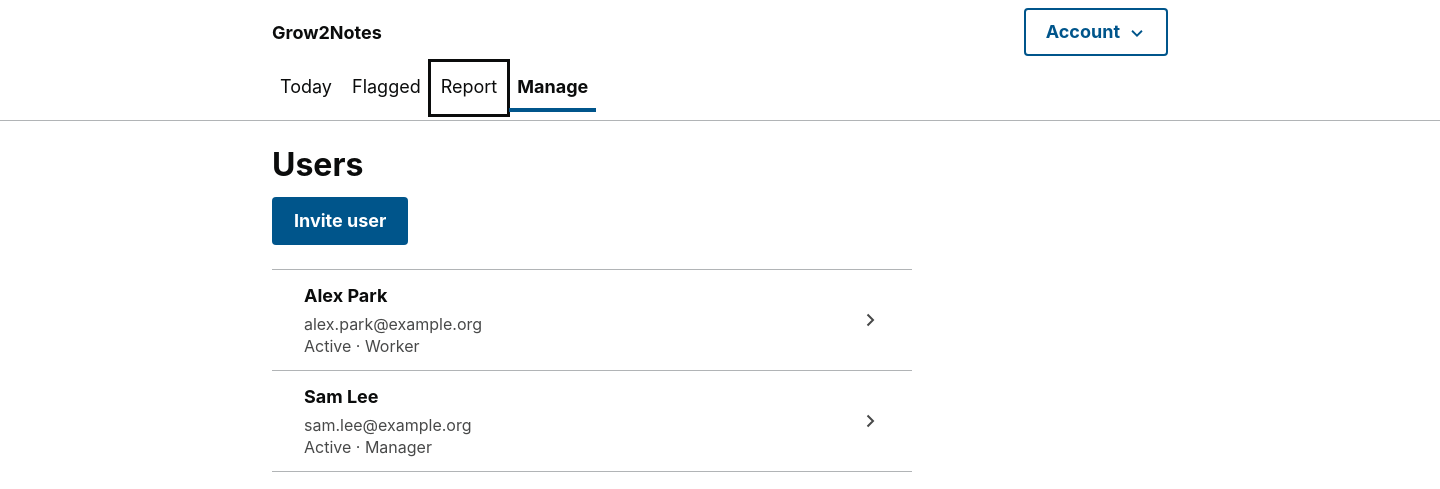
Test: a new screen › from the nav link Report focuses the new screen's <h1> and scrolls to the top
(page scrolled)
Click the link "Report": (469, 86) 441,76 -> 497,96
Wait 1 ms
(page scrolled)
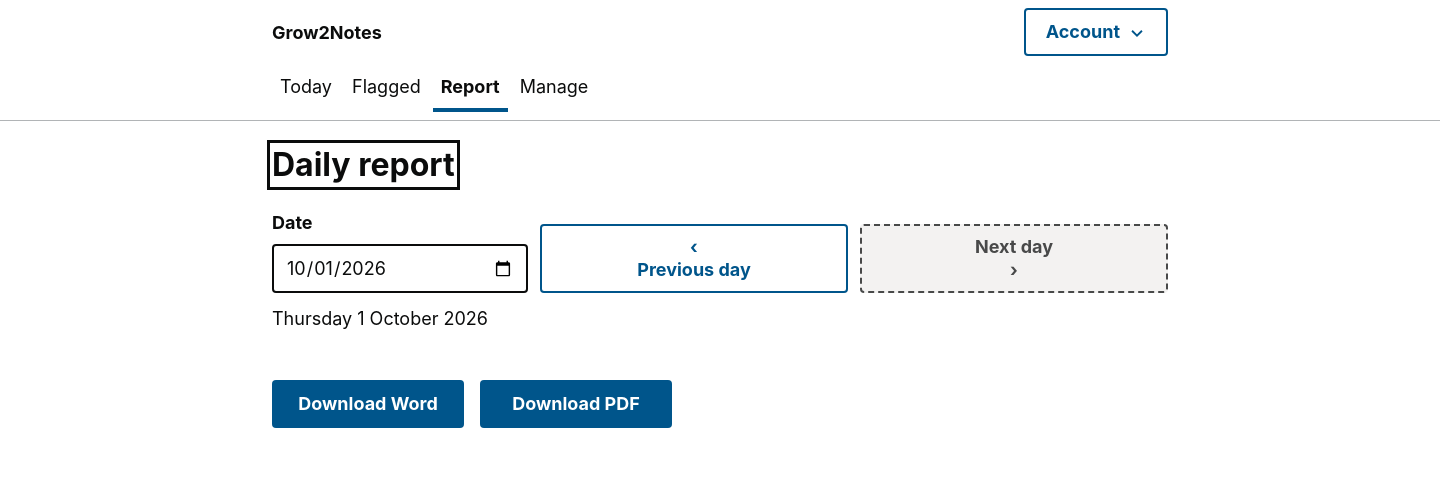
Expected: the heading reads "Daily report", 272,145 -> 455,184
